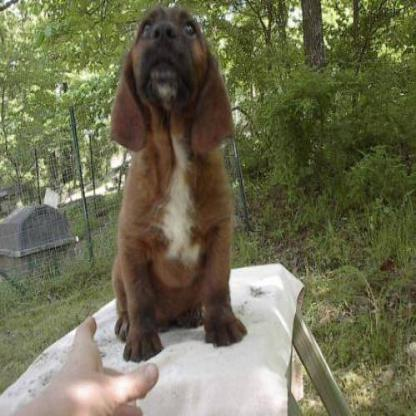dog: (92, 9, 250, 235)
